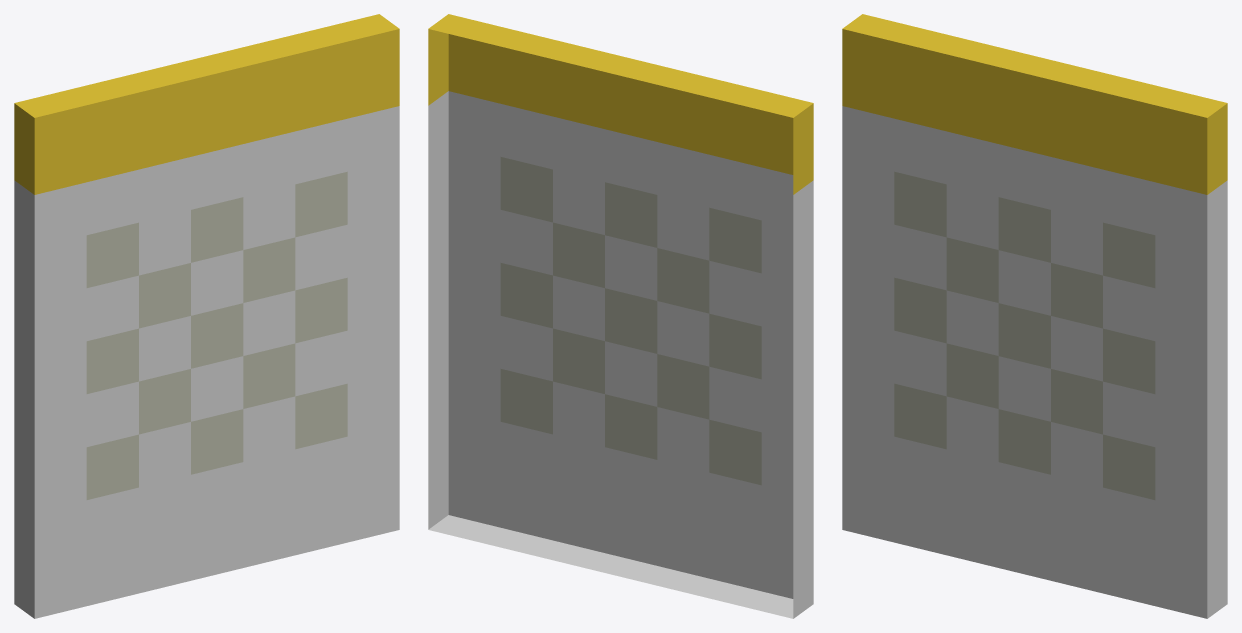
File: calendar.glb
3 views of the same model, side by side, from view 1: azimuth 30°, elevation 25°; view 2: azimuth 150°, elevation 25°; view 3: azimuth 330°, elevation 25° (orthographic).
Parts seen in each view (by area): view 1: Calendar; view 2: Calendar; view 3: Calendar.
Boxes of the visible parts, x1,y1,x2,y2 form: Calendar: (14, 14, 399, 618); Calendar: (428, 14, 813, 618); Calendar: (842, 14, 1227, 618).
Bounding box in the file's own units: 2 × 2.62 × 0.1929.
